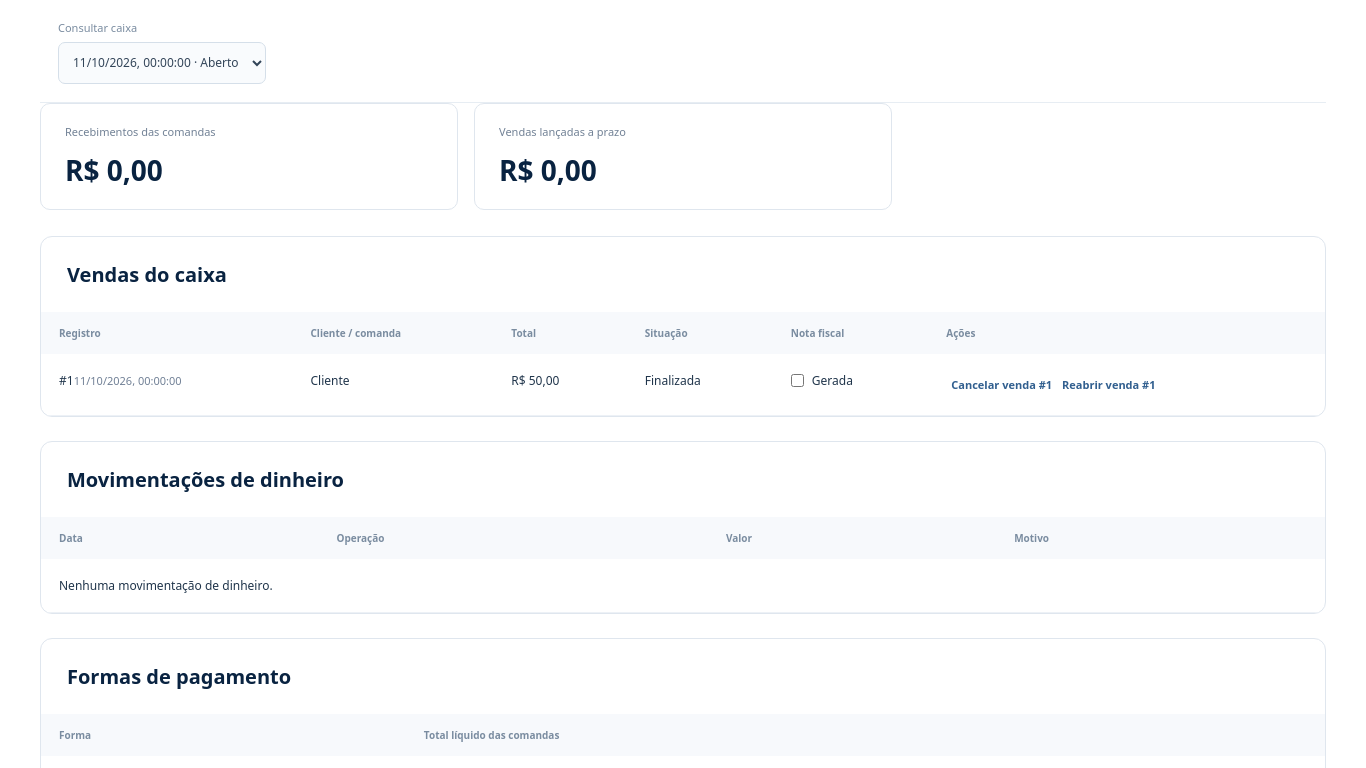
Test: reopens a sale and alerts the new comanda number with a direct link
This screenshot has width=1366, height=768.
(page scrolled)
Click the button "Reabrir venda #1" at (1109, 384), box [1057, 372, 1160, 397]
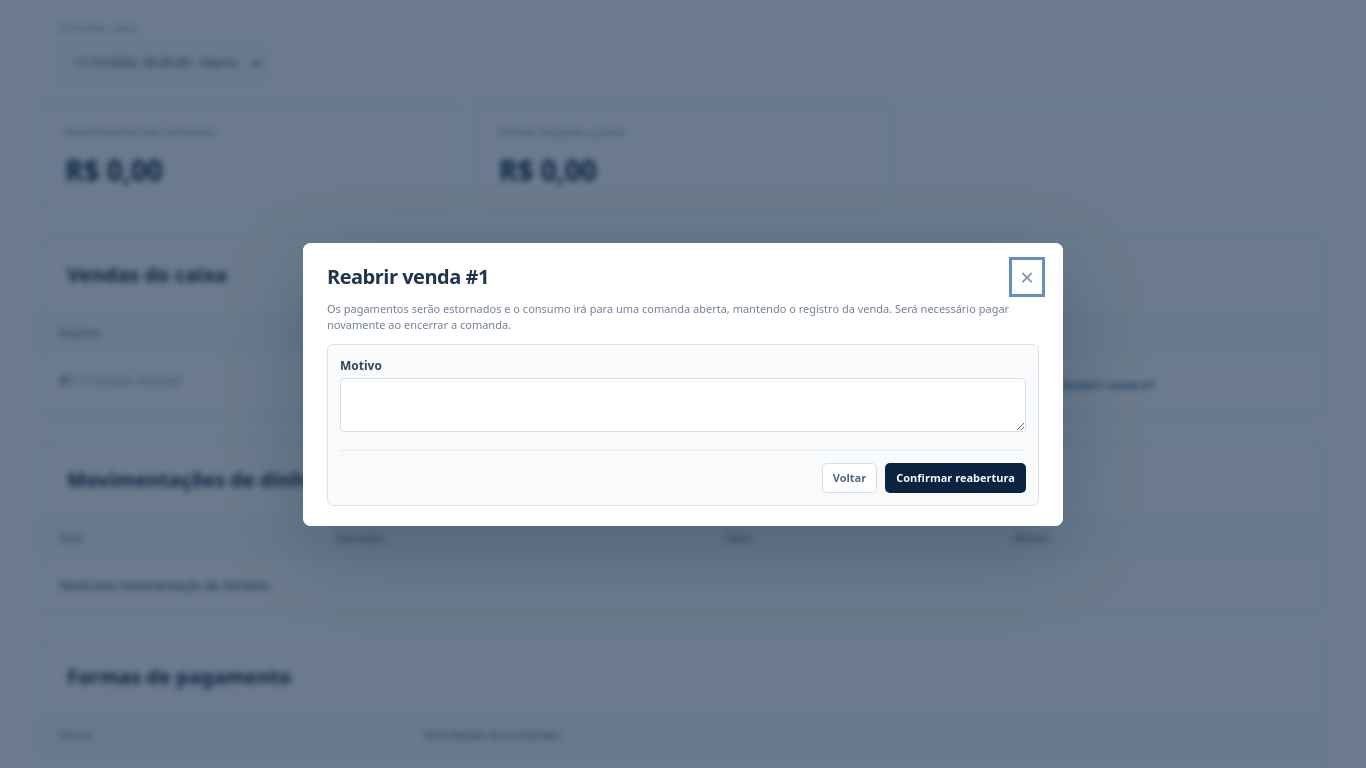
Type "Corrigir consumo" into the text box labelled "Motivo" at (683, 404), box [340, 378, 1026, 432]
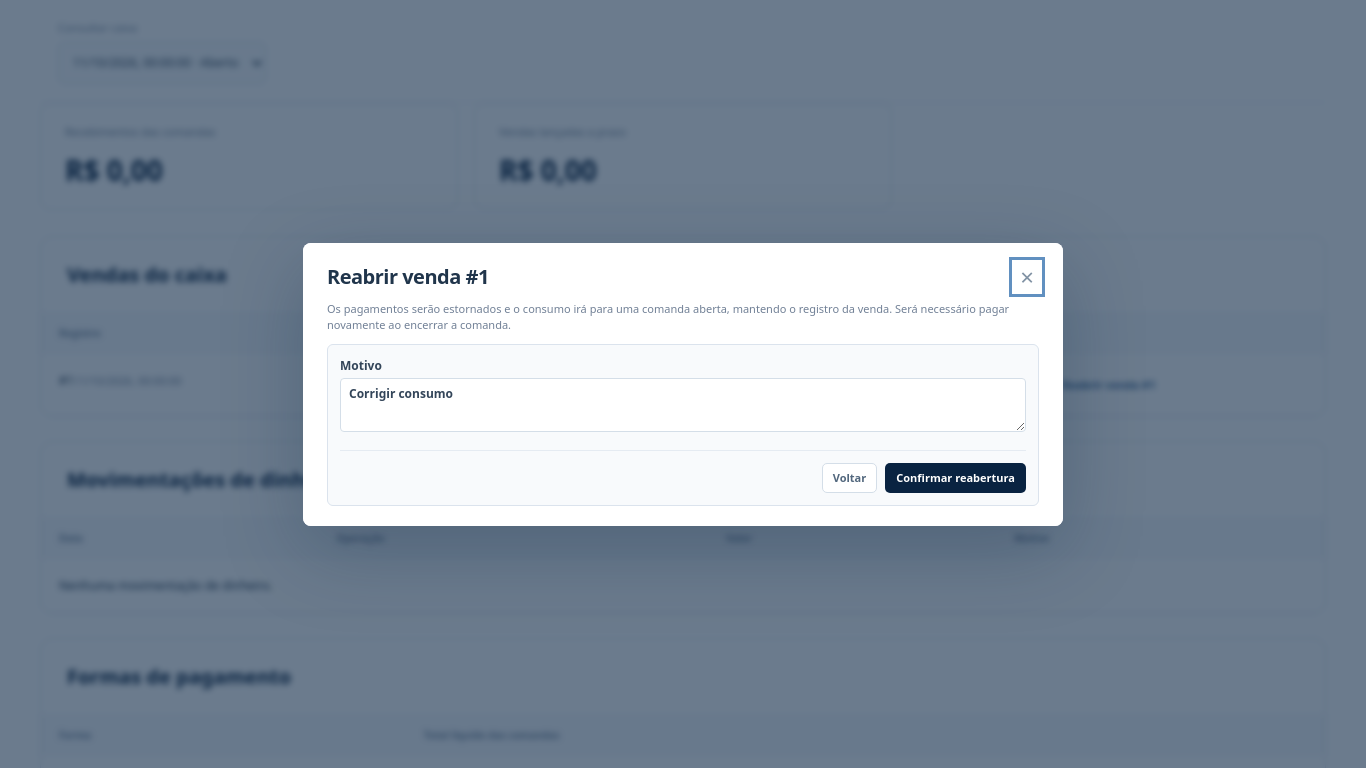
Click the button "Confirmar reabertura" at (956, 478), box [885, 462, 1026, 492]
(page scrolled)
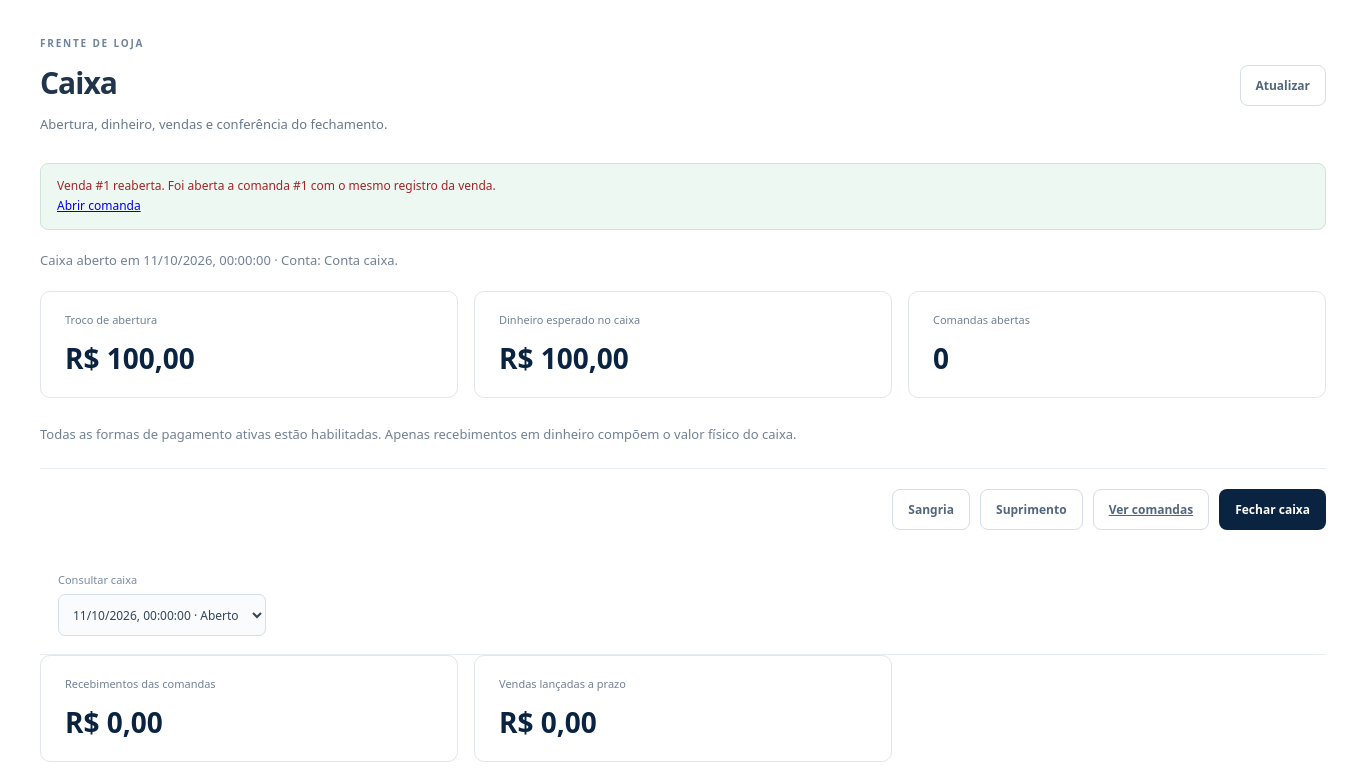
Expected: the message shows "comanda #1", [57, 177, 496, 194]
